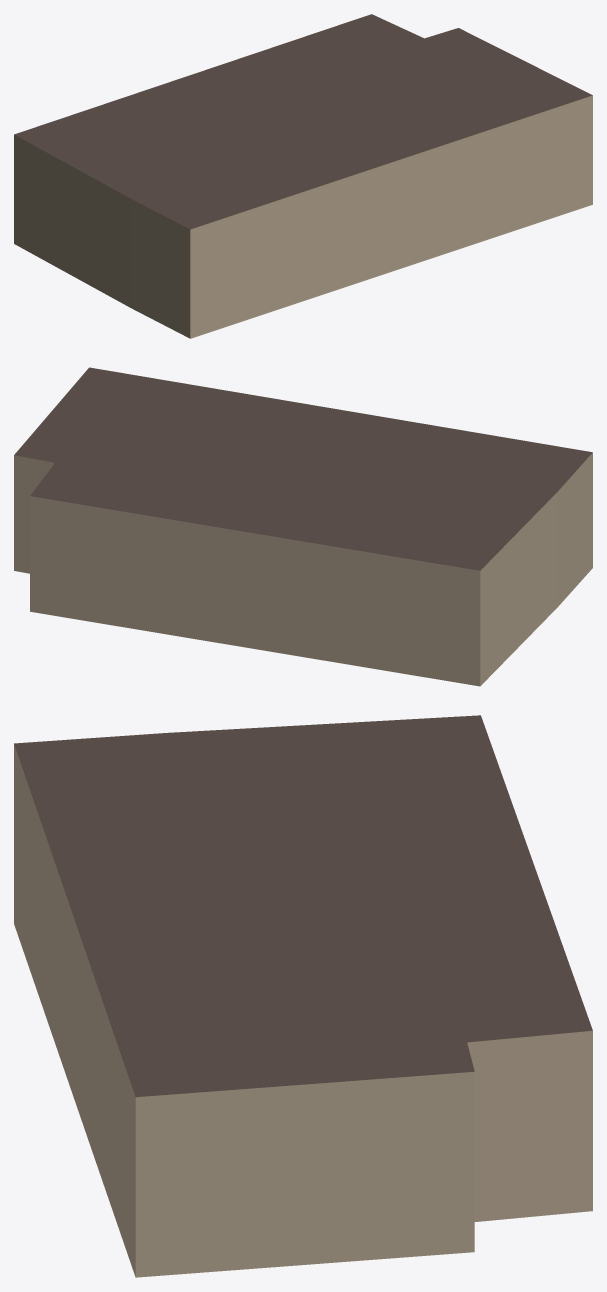
3 views of the same model, one above another, from view 1: azimuth 30°, elevation 25°; view 2: azimuth 150°, elevation 25°; view 3: azimuth 270°, elevation 25° (orthographic). The views are drawn at different scales.
Parts seen in each view (by area): view 1: HP-w1515071094; view 2: HP-w1515071094; view 3: HP-w1515071094.
Part boxes in pixels (x1,y1,x2,y2): HP-w1515071094: [14, 14, 592, 338]; HP-w1515071094: [14, 367, 592, 686]; HP-w1515071094: [14, 715, 592, 1277].
Bounding box in the file's own units: 40.86 × 9 × 26.18.
